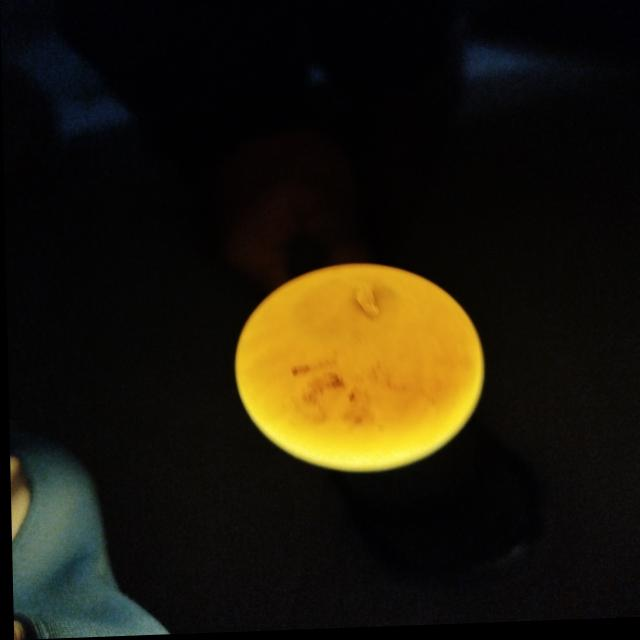Rachadura: (353, 285, 378, 321)
